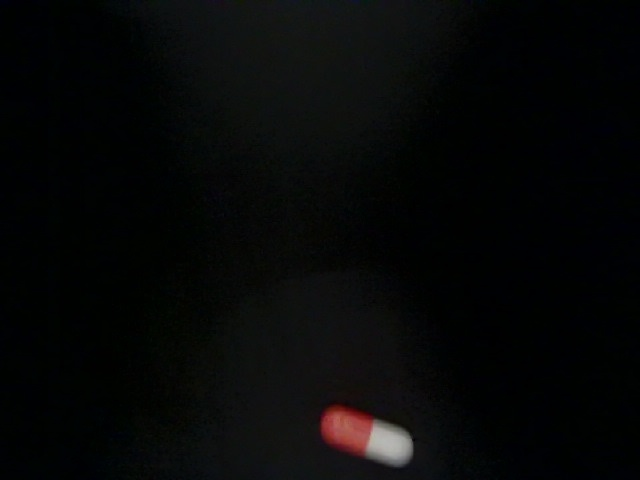YHLJ: (311, 51, 406, 96)
